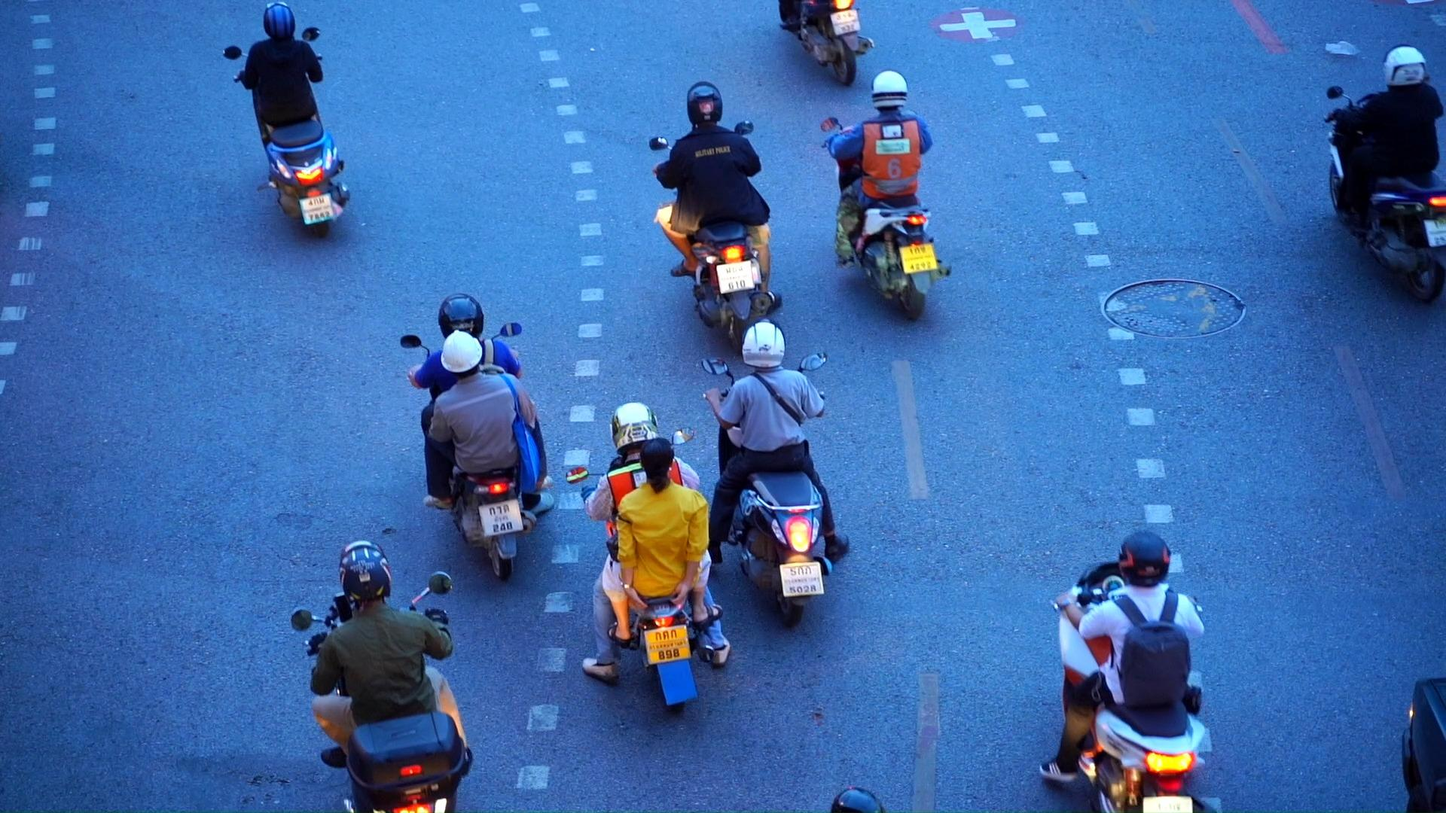driver: (565, 401, 732, 715), (1038, 530, 1219, 813), (291, 539, 474, 813), (701, 317, 850, 631), (399, 293, 554, 581), (648, 81, 782, 355), (821, 70, 953, 322), (1327, 42, 1446, 305), (223, 0, 351, 238), (777, 0, 875, 86)
helmet: (339, 539, 391, 610), (1119, 531, 1172, 587), (610, 401, 659, 455), (741, 317, 787, 369), (439, 293, 485, 339), (1383, 43, 1428, 90), (441, 329, 483, 379), (687, 82, 723, 130), (872, 70, 908, 112), (831, 786, 886, 813), (263, 0, 296, 41)
no-helmet: (640, 437, 675, 493)
